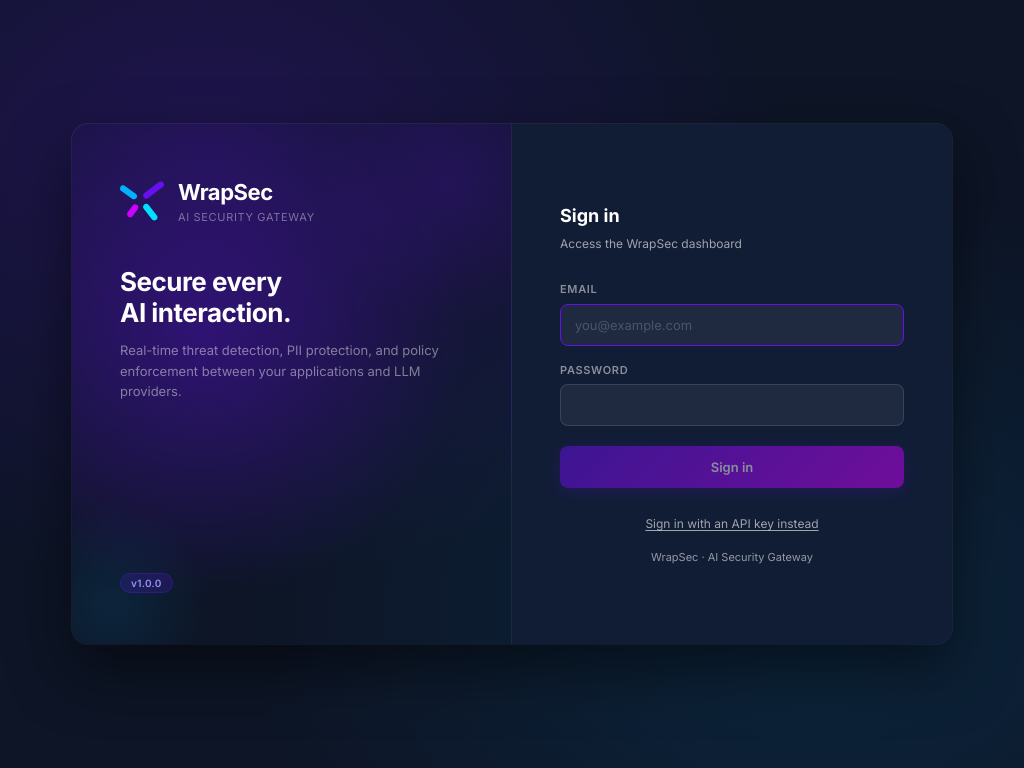
Test: LoginPage credentials flow › maps any other AuthError to the invalid-credentials message
Type "a@b.com" into the field with placeholder "you@example.com" at x=732, y=325, box [560, 304, 904, 346]
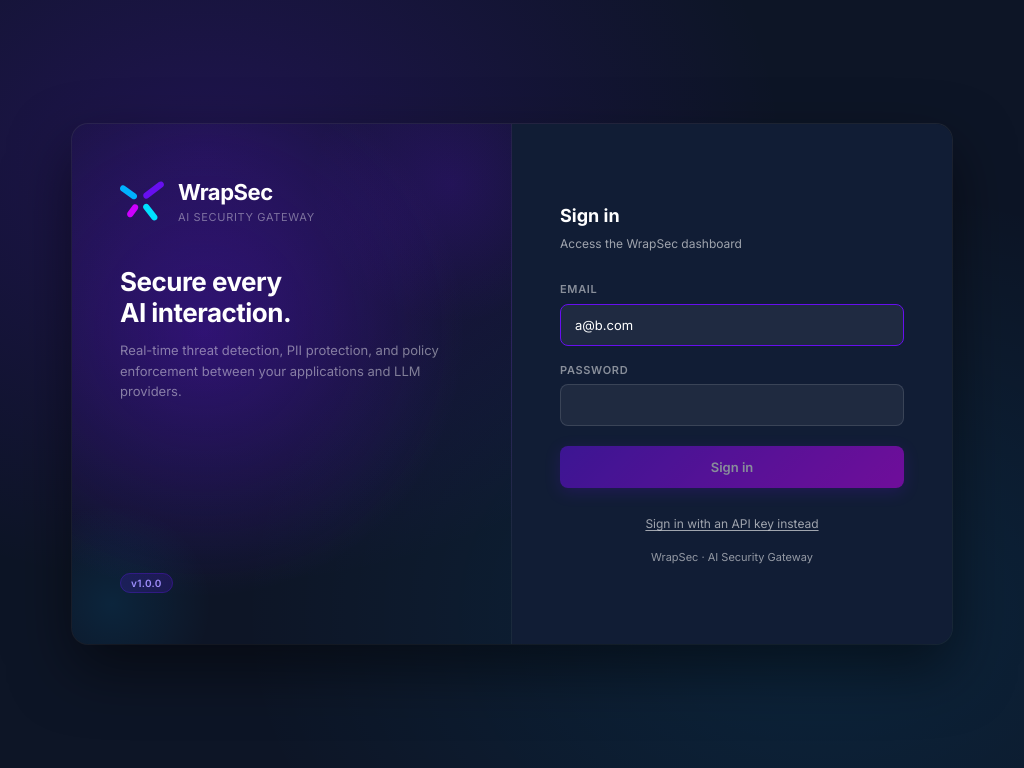
Type "pw123456" into the password field named "Password" at x=732, y=405, box [560, 384, 904, 426]
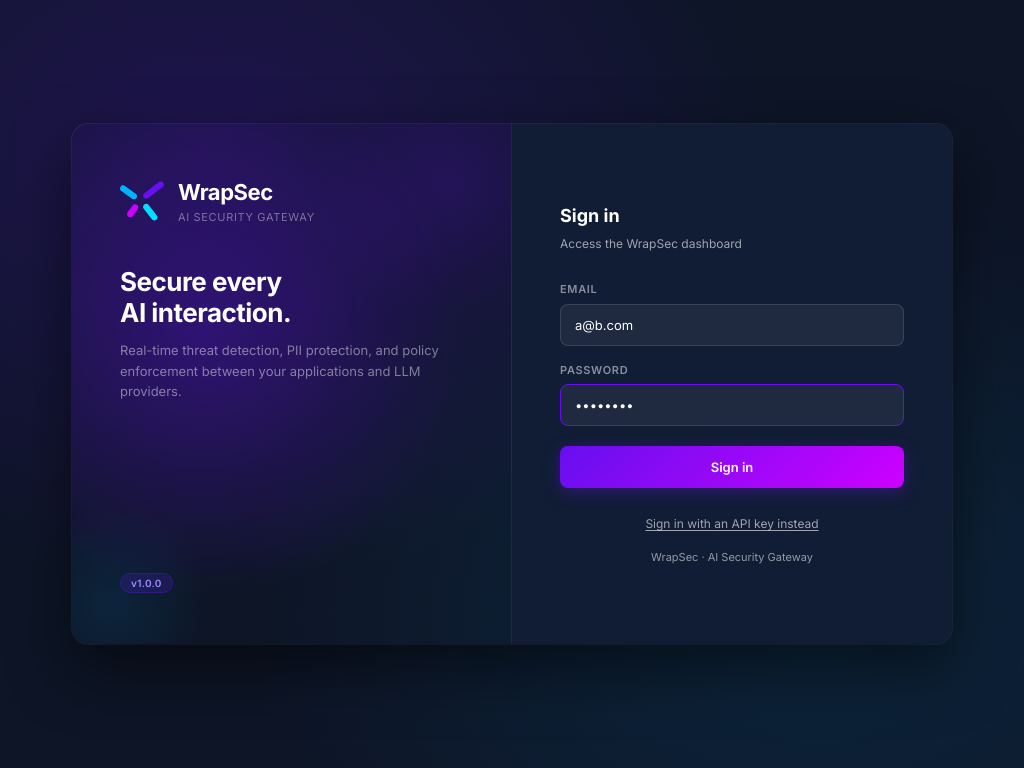
Click the button "Sign in" at x=732, y=467, box [560, 446, 904, 488]
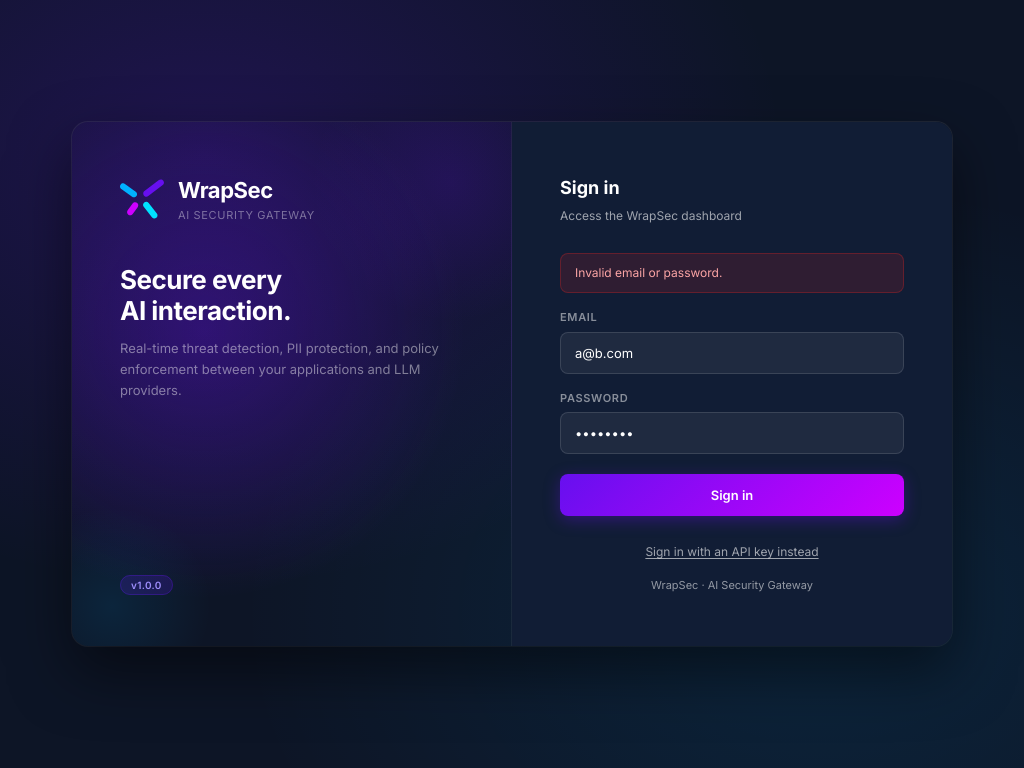
Check: the text "Invalid email or password." is shown, box [560, 253, 904, 293]
